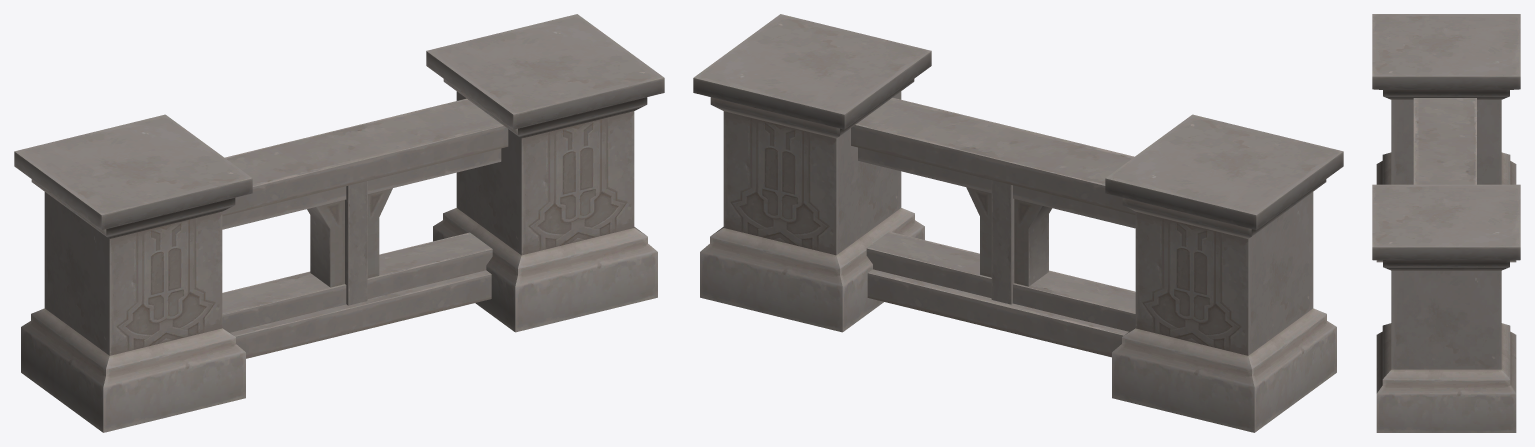
The model's file is Homeworld_Exterior_Fd_Build_Prop_ZxShiLan_01_Vo.fbx.
3 renders of one model, left to right at view 1: azimuth 30°, elevation 25°; view 2: azimuth 150°, elevation 25°; view 3: azimuth 270°, elevation 25°, orthographic. The views are drawn at different scales.
Parts seen in each view (by area): view 1: Area_Fd_Prop_FDC_Zcweilan_01_Vo, Area_Fd_Prop_FDC_Zcweilan_01_Vo (1), Area_Fd_Prop_FDC_Zcweilan_04_Vo; view 2: Area_Fd_Prop_FDC_Zcweilan_01_Vo, Area_Fd_Prop_FDC_Zcweilan_01_Vo (1), Area_Fd_Prop_FDC_Zcweilan_04_Vo; view 3: Area_Fd_Prop_FDC_Zcweilan_01_Vo (1), Area_Fd_Prop_FDC_Zcweilan_01_Vo, Area_Fd_Prop_FDC_Zcweilan_04_Vo.
Part boxes in pixels (bbox=[...]): Area_Fd_Prop_FDC_Zcweilan_01_Vo: bbox=[14, 114, 252, 432]; Area_Fd_Prop_FDC_Zcweilan_01_Vo (1): bbox=[426, 14, 664, 332]; Area_Fd_Prop_FDC_Zcweilan_04_Vo: bbox=[222, 98, 508, 358]; Area_Fd_Prop_FDC_Zcweilan_01_Vo: bbox=[1105, 114, 1343, 432]; Area_Fd_Prop_FDC_Zcweilan_01_Vo (1): bbox=[693, 14, 931, 332]; Area_Fd_Prop_FDC_Zcweilan_04_Vo: bbox=[851, 97, 1135, 357]; Area_Fd_Prop_FDC_Zcweilan_01_Vo (1): bbox=[1372, 184, 1520, 432]; Area_Fd_Prop_FDC_Zcweilan_01_Vo: bbox=[1372, 14, 1520, 262]; Area_Fd_Prop_FDC_Zcweilan_04_Vo: bbox=[1413, 98, 1476, 184].
Size of the model in its own units: 3.68 by 1.38 by 0.9873.
